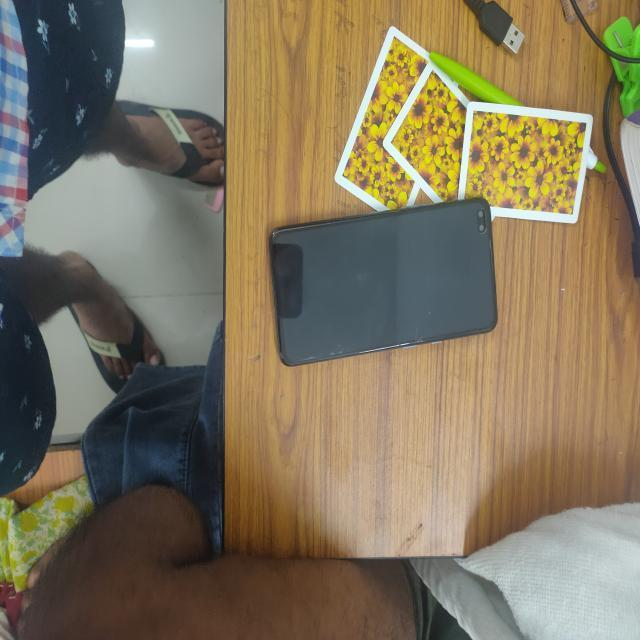Phone: (260, 196, 500, 368)
